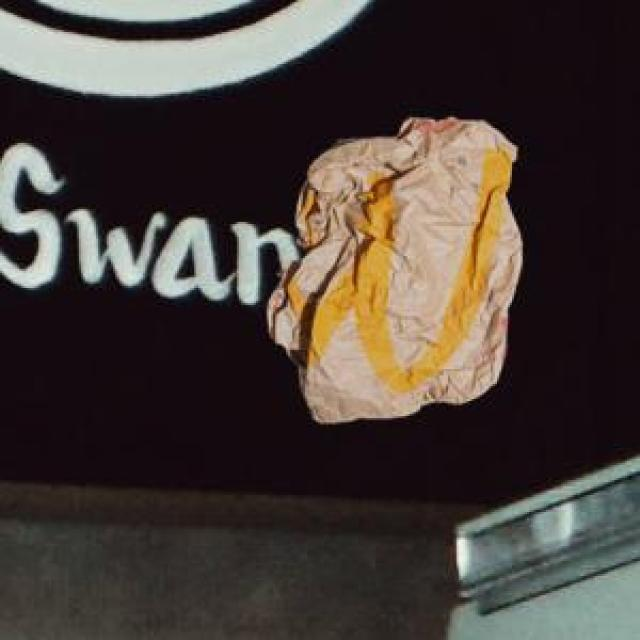paper: (262, 113, 518, 418)
